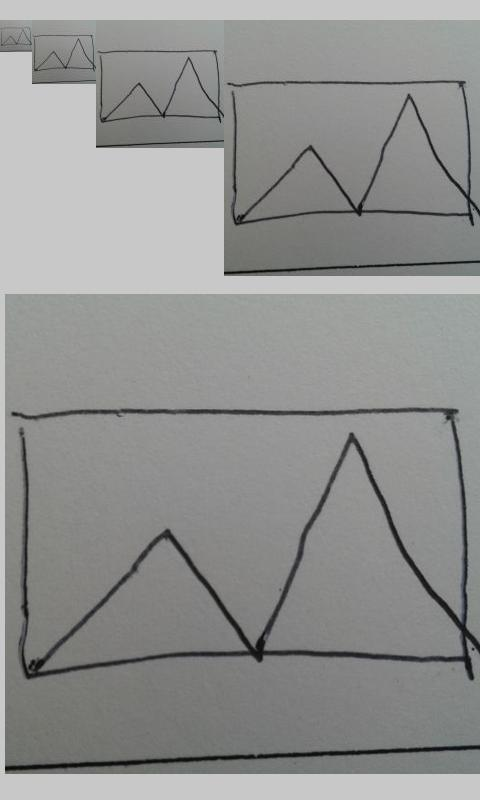image_view: (18, 408, 468, 678), (231, 76, 472, 230), (100, 49, 221, 124), (33, 34, 94, 71), (1, 26, 31, 47)
